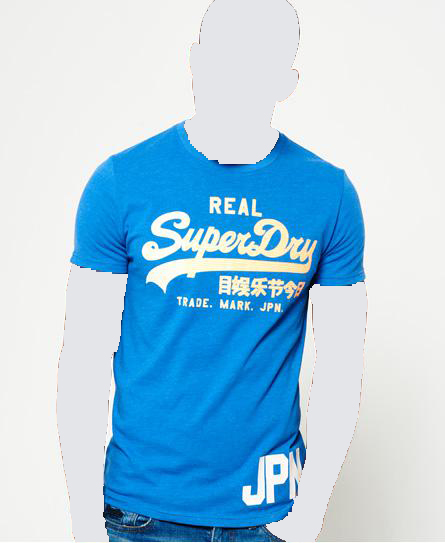teeshirt: (71, 121, 368, 536)
